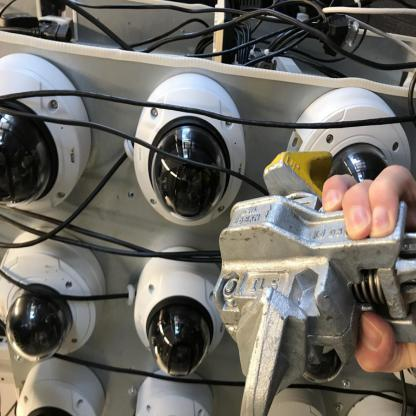Twistlock: (210, 144, 416, 416)
